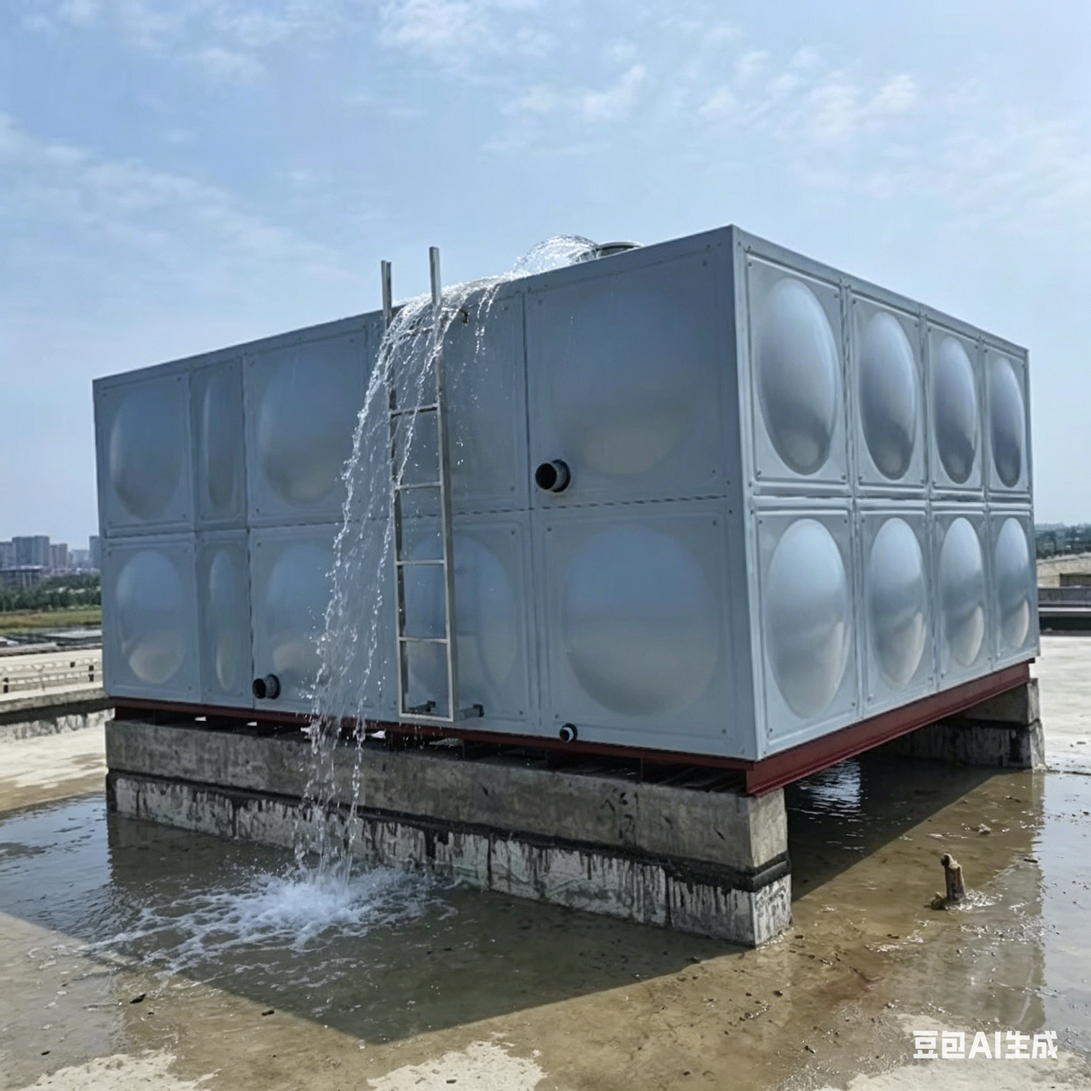Leakage: (8, 818, 776, 1083), (794, 786, 1089, 1057), (301, 309, 429, 830)
